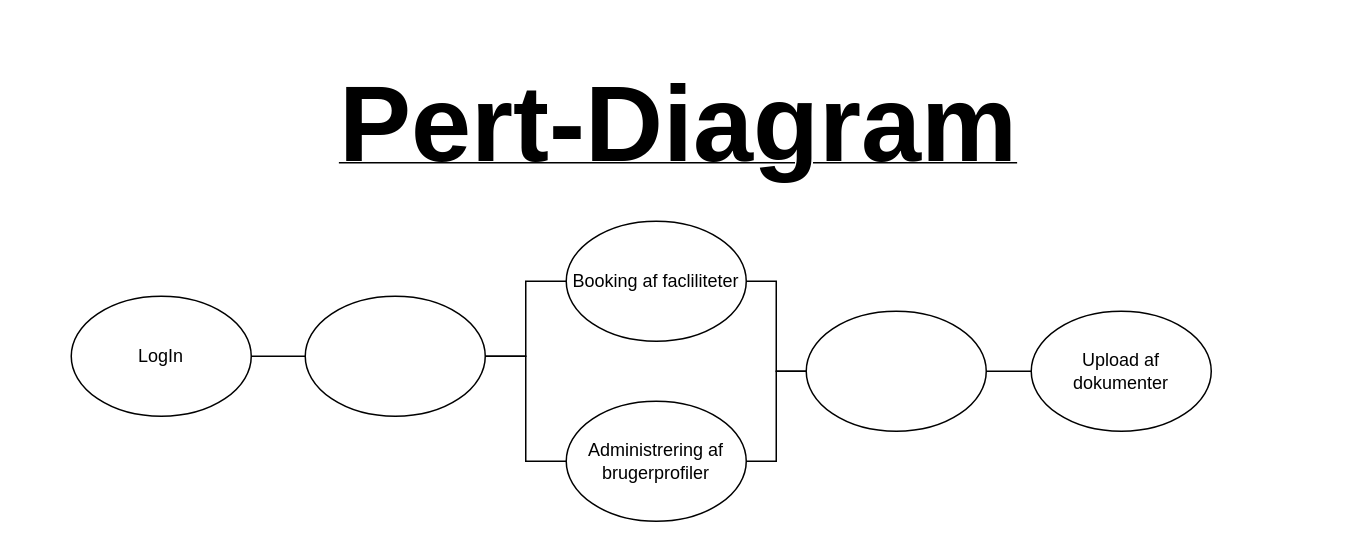
Image size: 1356x548. Some labels were removed from this diagram. The centre of each missing label's shape, as x and y in pixels:
Opdaterere bestyrelsesoplysninger: [394,355]
Send notifikationer til brugerne: [895,370]
